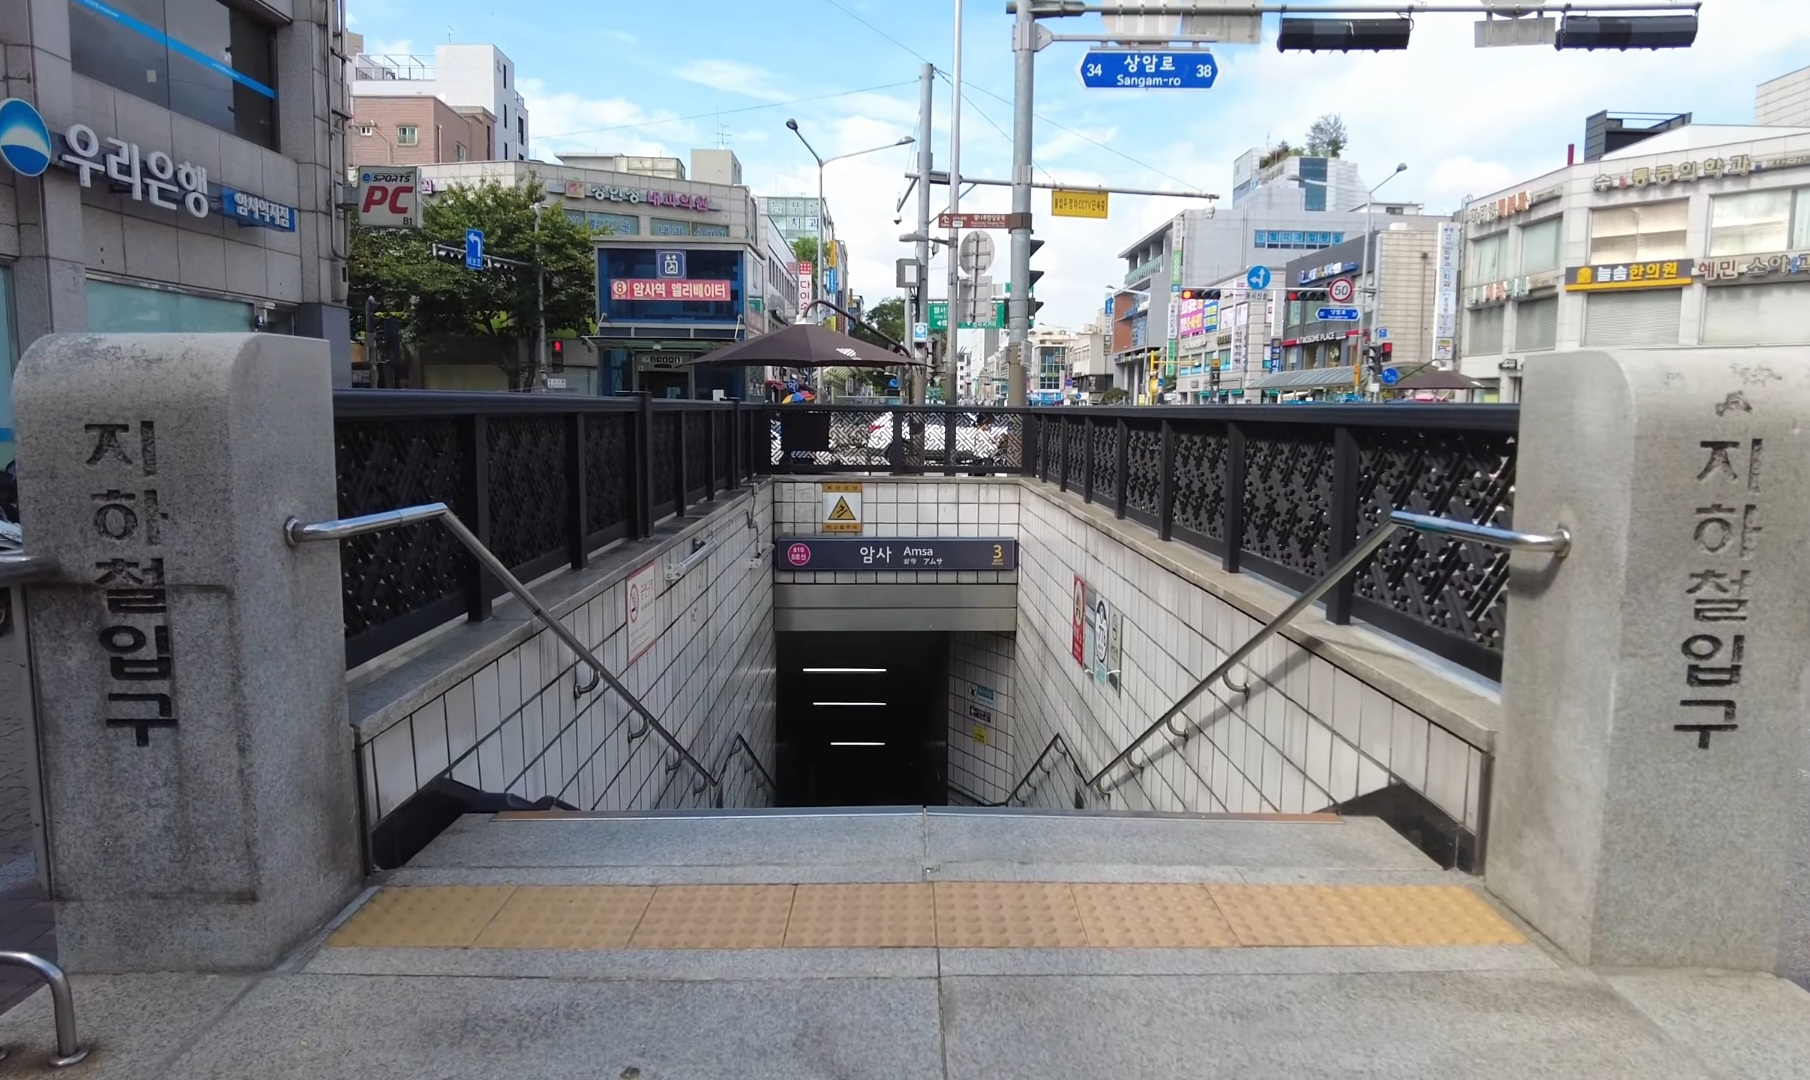warningBlock: (1351, 868, 1505, 964), (1223, 883, 1374, 963), (1079, 877, 1235, 951), (659, 874, 788, 960), (501, 892, 665, 959), (794, 887, 940, 958), (940, 887, 1072, 959), (369, 885, 497, 945)
